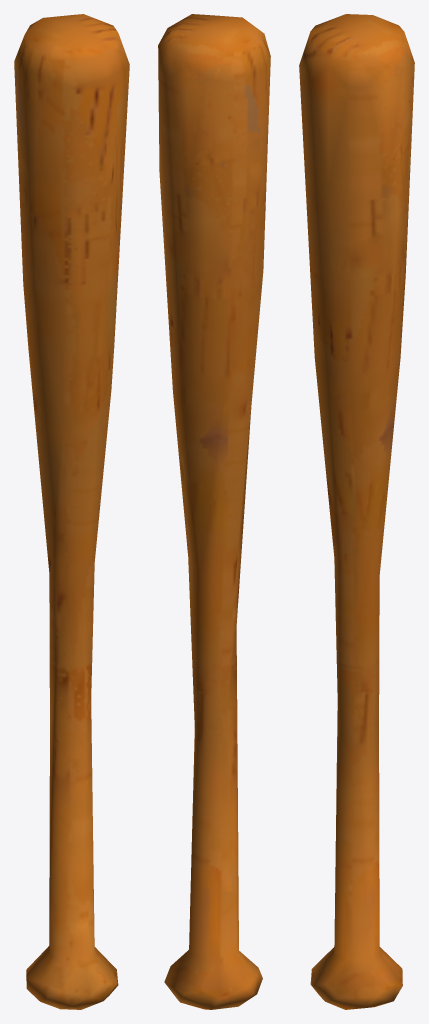
File: StoreTungTung-club.glb
3 renders of one model, left to right at view 1: azimuth 90°, elevation 25°; view 2: azimuth 210°, elevation 25°; view 3: azimuth 270°, elevation 25°, orthographic.
Visible parts, largest first — view 1: LowPoly; view 2: LowPoly; view 3: LowPoly.
Part boxes in pixels (left/top/right/bottom): LowPoly: left=14, top=14, right=129, bottom=1009; LowPoly: left=158, top=14, right=270, bottom=1009; LowPoly: left=299, top=14, right=414, bottom=1009.
Bounding box in the file's own units: 0.1296 × 1.2 × 0.1294.
Materials: 1 (1 with a texture image).
